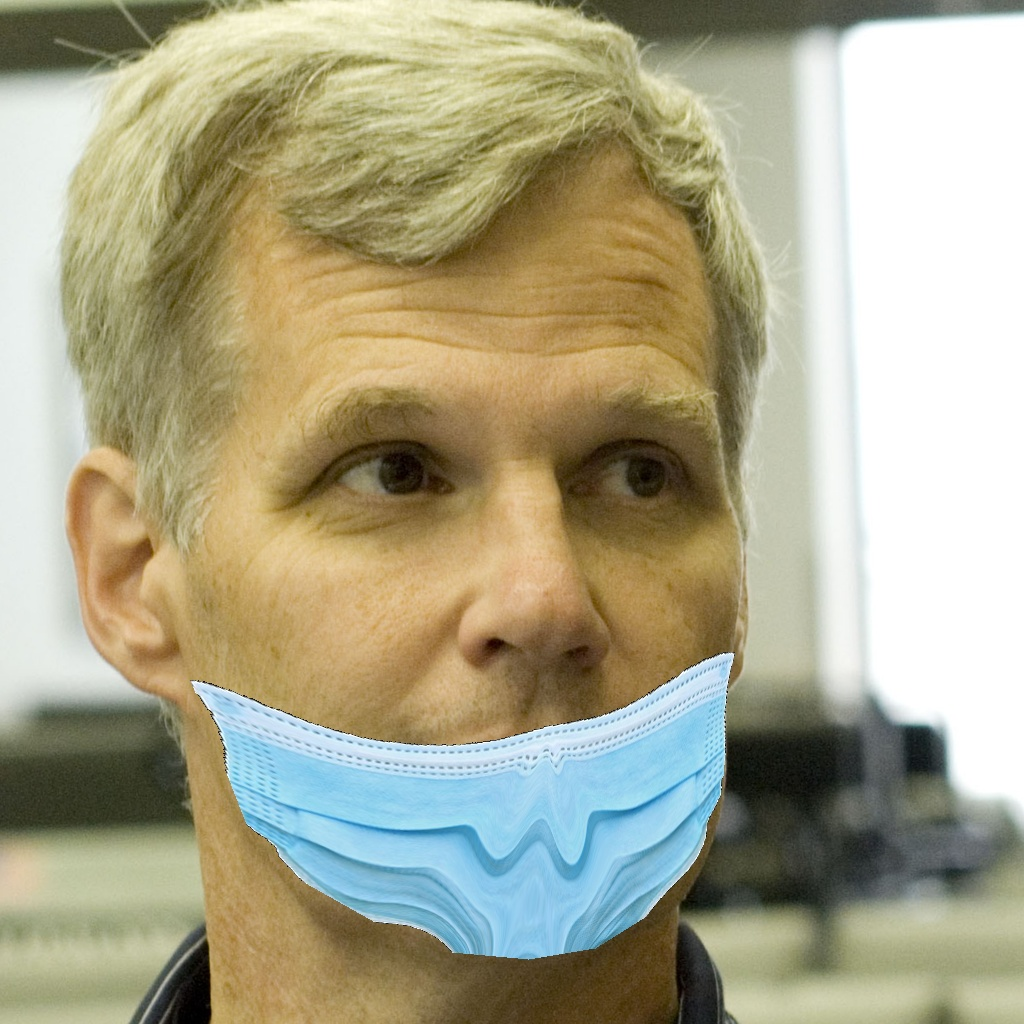mascarilla_mal_puesta: (142, 345, 774, 960)
